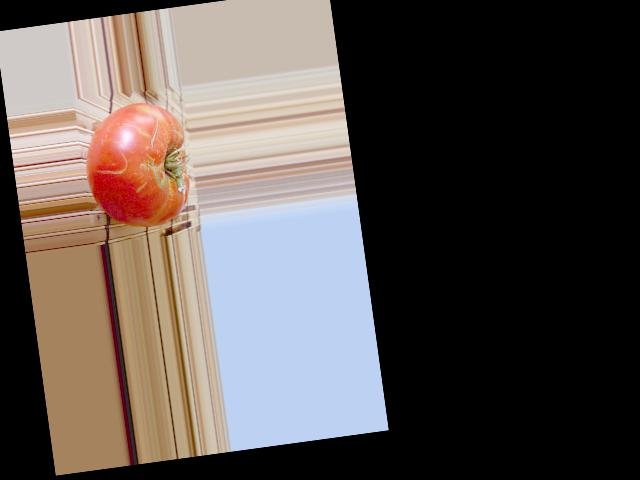tomato: (79, 97, 195, 234)
